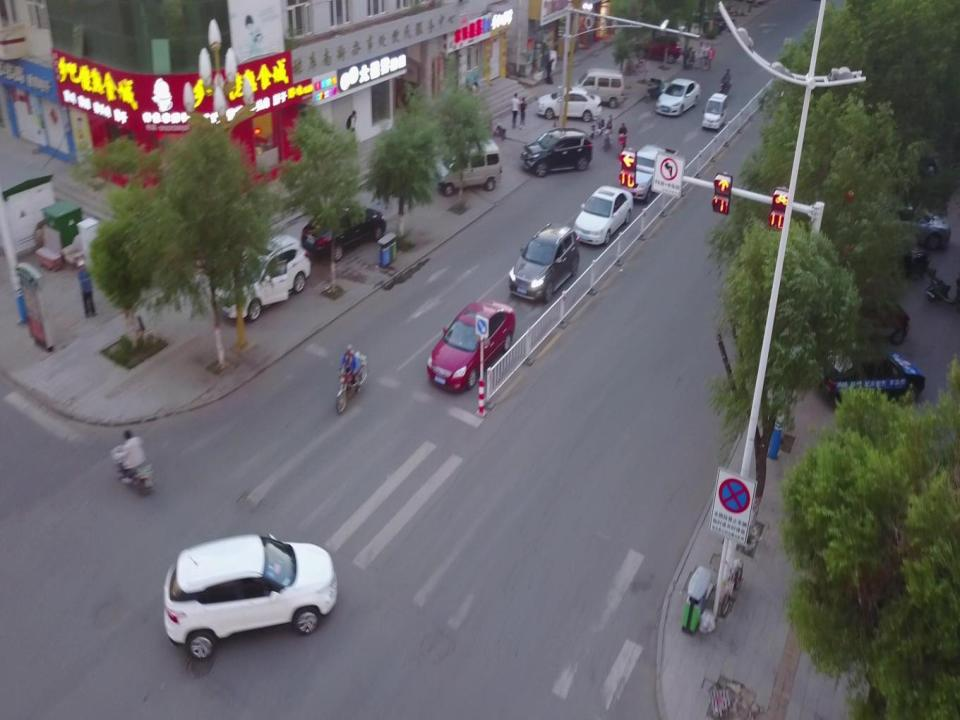car: (161, 531, 338, 660), (214, 232, 310, 323), (426, 296, 516, 391), (509, 224, 579, 305), (300, 200, 386, 264), (520, 126, 594, 177), (574, 184, 633, 246), (618, 142, 672, 201), (536, 86, 603, 121), (656, 77, 701, 117), (634, 32, 682, 63)
van: (436, 138, 502, 198), (572, 68, 625, 108)
